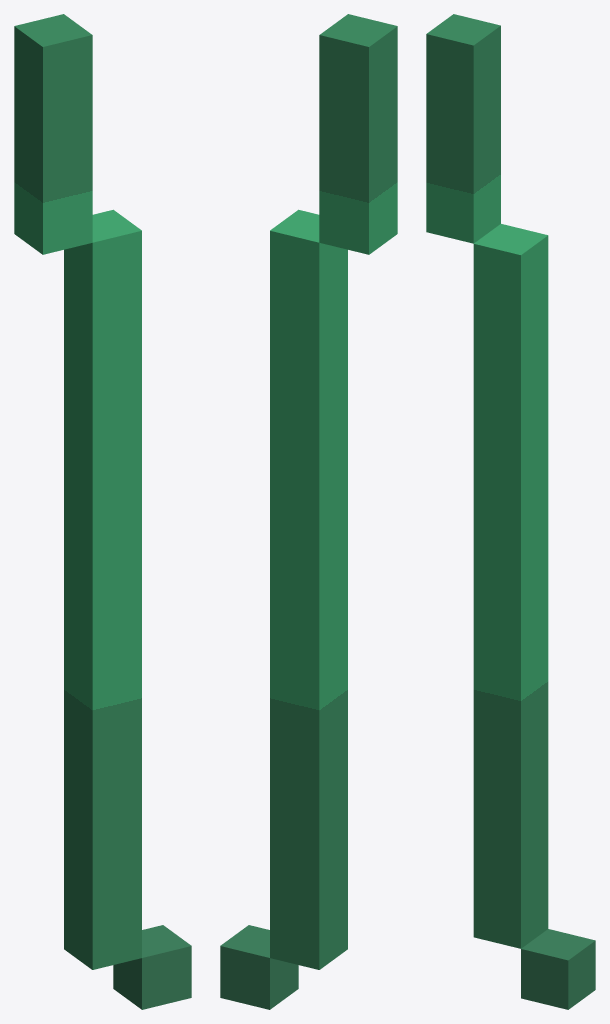
File: vine6.fbx
3 renders of one model, left to right at view 1: azimuth 30°, elevation 25°; view 2: azimuth 150°, elevation 25°; view 3: azimuth 330°, elevation 25°, orthographic. The views are drawn at different scales.
Visible parts, largest first — view 1: vine6; view 2: vine6; view 3: vine6.
Part boxes in pixels (x1,y1,x2,y2): vine6: [14, 14, 191, 1009]; vine6: [220, 14, 397, 1009]; vine6: [426, 14, 595, 1009].
Size of the model in its own units: 3 by 19 by 1.
Materials: 1 (1 with a texture image).
